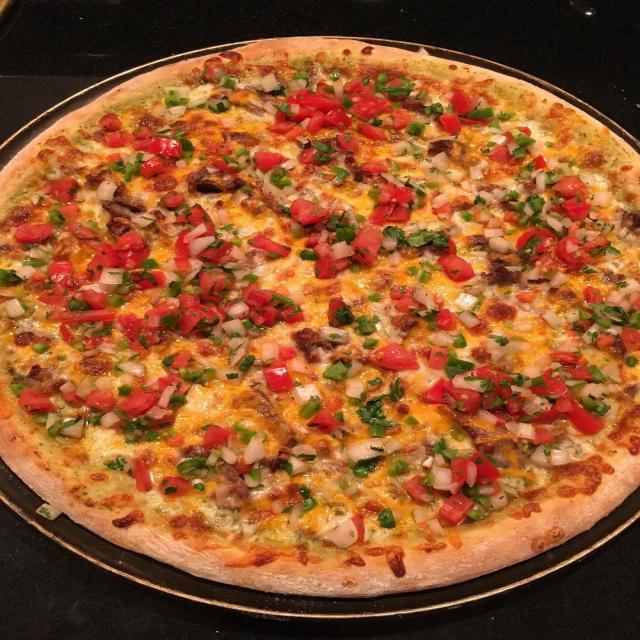pizza: (0, 34, 640, 601)
